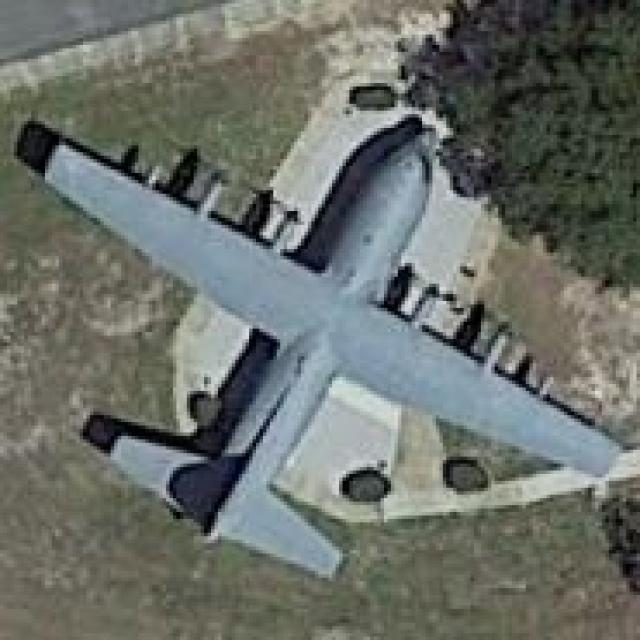C-130_TopDown: (13, 103, 626, 586)
